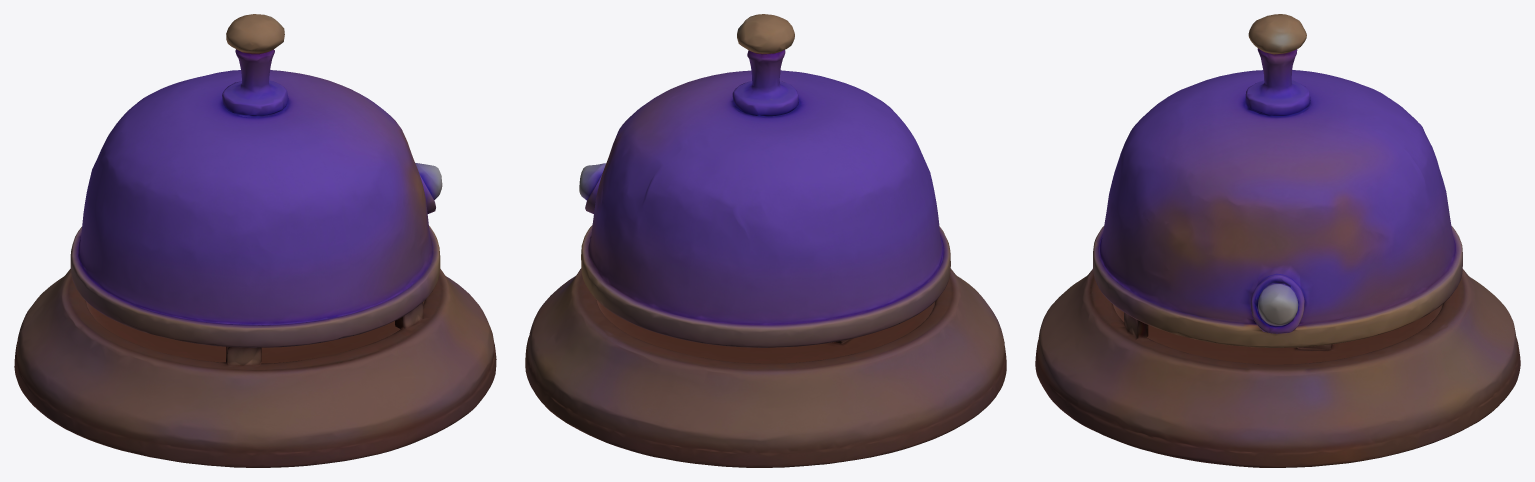
3 renders of one model, left to right at view 1: azimuth 30°, elevation 25°; view 2: azimuth 150°, elevation 25°; view 3: azimuth 270°, elevation 25°, orthographic.
Visible parts, largest first — view 1: tripo_node_c21f9747-e69c-4ebc-a4f1-8a4576f5660d; view 2: tripo_node_c21f9747-e69c-4ebc-a4f1-8a4576f5660d; view 3: tripo_node_c21f9747-e69c-4ebc-a4f1-8a4576f5660d.
Part boxes in pixels (x1,y1,x2,y2): tripo_node_c21f9747-e69c-4ebc-a4f1-8a4576f5660d: (14,14,496,467); tripo_node_c21f9747-e69c-4ebc-a4f1-8a4576f5660d: (525,14,1006,467); tripo_node_c21f9747-e69c-4ebc-a4f1-8a4576f5660d: (1035,14,1520,467).
Bounding box in the file's own units: 0.9985 × 0.7984 × 1.
Materials: 1 (1 with a texture image).
